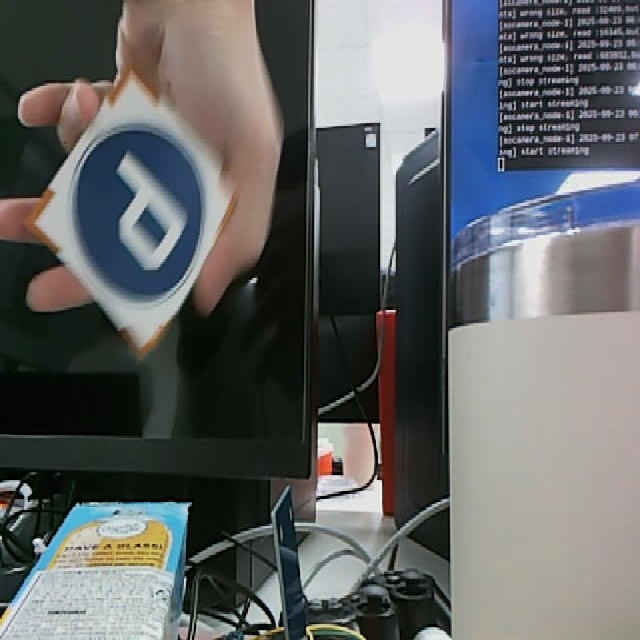parking: (25, 67, 239, 361)
